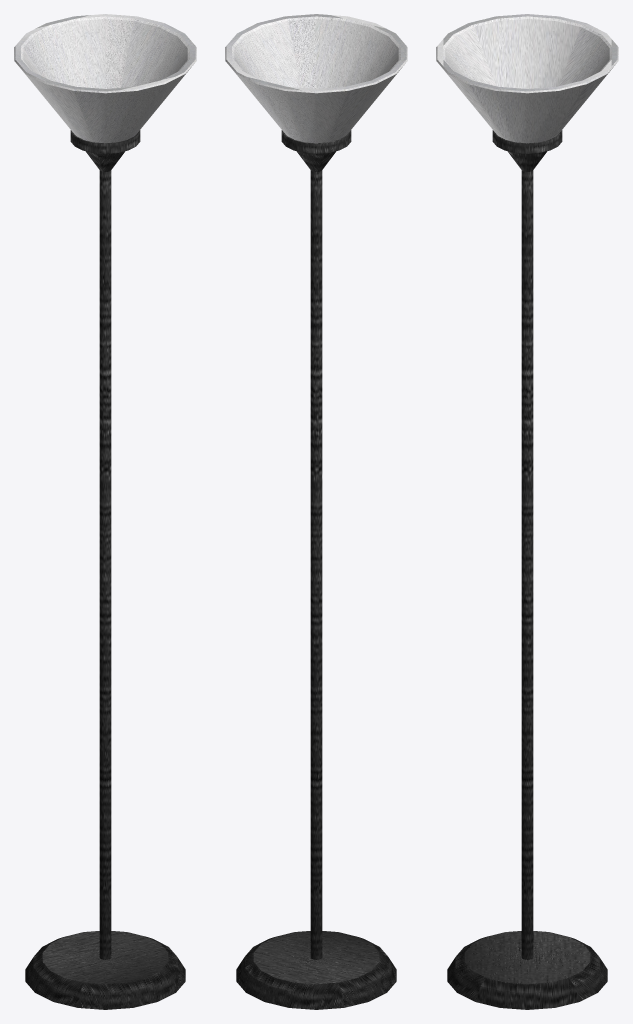
The model's file is Lamp.FBX.
3 views of the same model, side by side, from view 1: azimuth 30°, elevation 25°; view 2: azimuth 150°, elevation 25°; view 3: azimuth 270°, elevation 25° (orthographic).
Visible parts, largest first — view 1: Lamp; view 2: Lamp; view 3: Lamp.
Boxes of the visible parts, left/top/right/bottom form: Lamp: left=14, top=14, right=196, bottom=1009; Lamp: left=225, top=14, right=407, bottom=1009; Lamp: left=436, top=14, right=618, bottom=1009.
Bounding box in the file's own units: 37.98 × 209 × 37.4.
2 materials, 2 textured.
